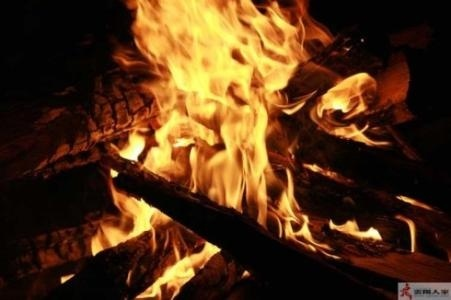fire: (104, 3, 381, 271)
